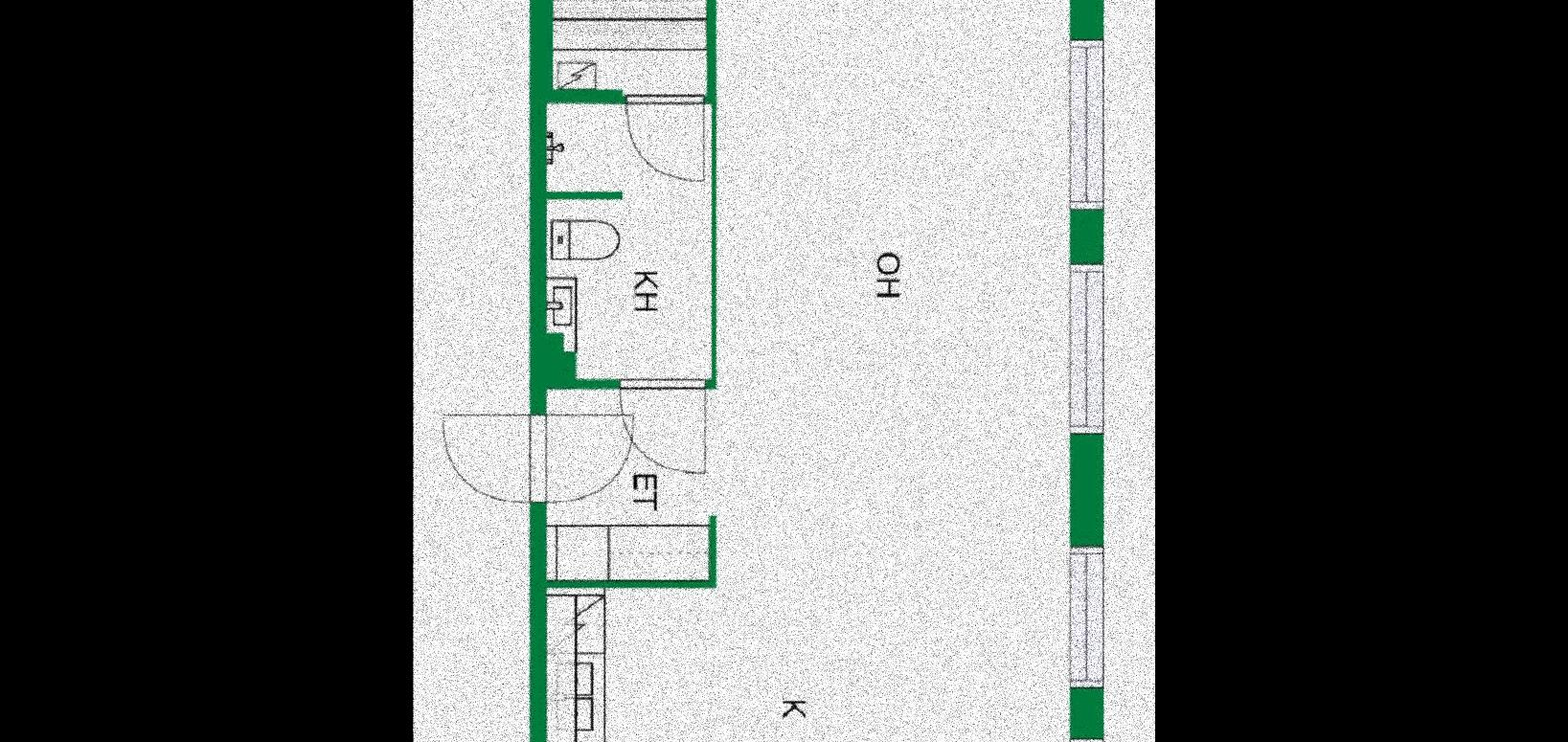door: (436, 408, 641, 503), (621, 365, 710, 481), (621, 91, 706, 184)
window: (1069, 261, 1105, 435), (1072, 37, 1103, 210), (1070, 544, 1106, 686)
zone: (535, 0, 1072, 742), (549, 101, 714, 376), (539, 385, 711, 579), (553, 0, 709, 93)
